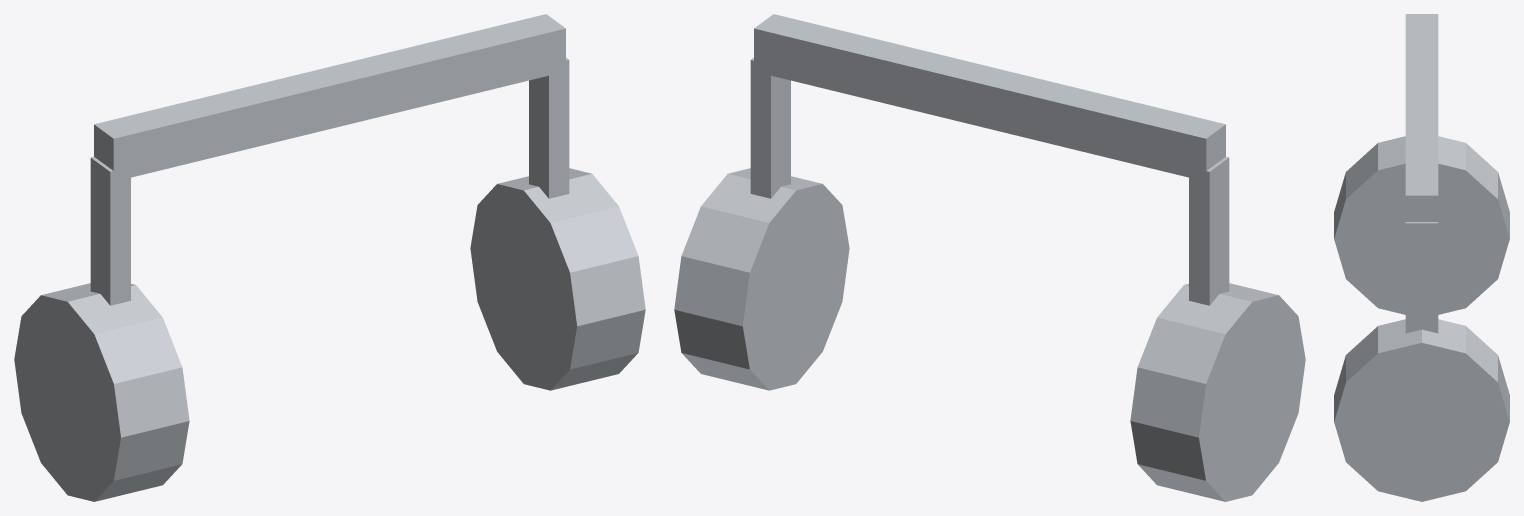
Rendered from npc_gear_ear_defenders.fbx.
3 views of the same model, side by side, from view 1: azimuth 30°, elevation 25°; view 2: azimuth 150°, elevation 25°; view 3: azimuth 270°, elevation 25° (orthographic). The views are drawn at different scales.
Visible parts, largest first — view 1: npc_gear_ear_defenders; view 2: npc_gear_ear_defenders; view 3: npc_gear_ear_defenders.
Part boxes in pixels (x1,y1,x2,y2): npc_gear_ear_defenders: (14,14,645,501); npc_gear_ear_defenders: (674,14,1305,501); npc_gear_ear_defenders: (1334,14,1509,501).
Bounding box in the file's own units: 153 × 99 × 54.
